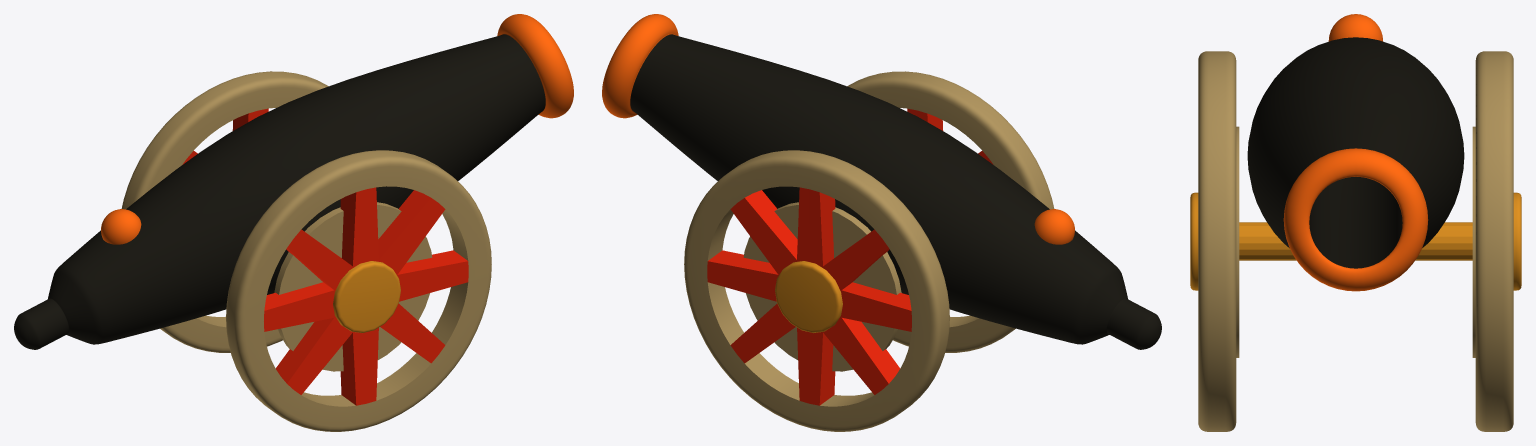
3 views of the same model, side by side, from view 1: azimuth 30°, elevation 25°; view 2: azimuth 150°, elevation 25°; view 3: azimuth 270°, elevation 25° (orthographic). The views are drawn at different scales.
Parts seen in each view (by area): view 1: Line022, Tube040, Group115, Tube041, Cylinder084, Cylinder083, Group117, Sphere077; view 2: Line022, Tube041, Group119, Tube040, Cylinder086, Cylinder085, Group117, Sphere077; view 3: Line022, Tube040, Tube041, Group117, Cylinder085, Cylinder083, Sphere077, Cylinder084, Cylinder086.
Part boxes in pixels (x1,y1,x2,y2): Line022: (14,34,545,349); Tube040: (226,150,491,431); Group115: (264,187,468,405); Tube041: (121,71,328,352); Cylinder084: (274,202,432,371); Cylinder083: (333,261,400,332); Group117: (497,14,573,118); Sphere077: (101,209,141,244); Line022: (630,34,1161,349); Tube041: (684,150,949,431); Group119: (707,187,911,405); Tube040: (847,71,1054,352); Cylinder086: (743,202,901,371); Cylinder085: (775,261,842,332); Group117: (602,14,678,118); Sphere077: (1034,209,1074,244); Line022: (1247,37,1464,268); Tube040: (1198,51,1236,431); Tube041: (1475,51,1513,431); Group117: (1283,148,1428,291); Cylinder085: (1415,192,1521,290); Cylinder083: (1190,192,1296,290); Sphere077: (1328,14,1382,41); Cylinder084: (1236,126,1239,357); Cylinder086: (1472,126,1475,357).
Bounding box in the file's own units: 69.68 × 38.48 × 28.64.
